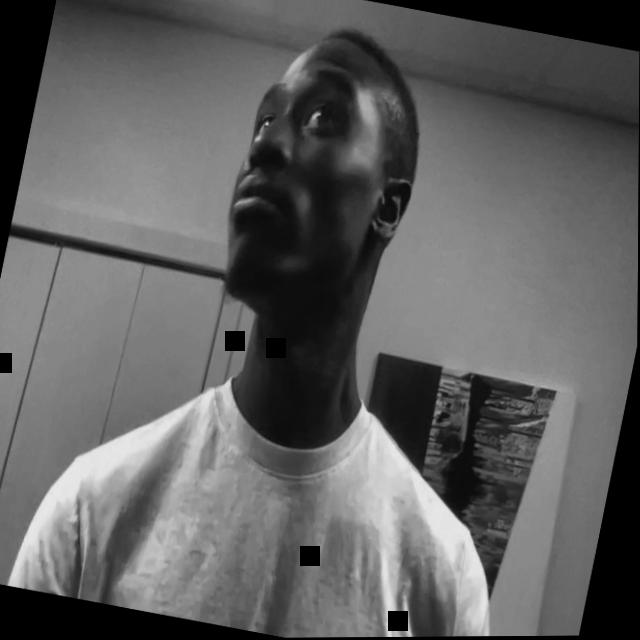NO-Mask: (212, 30, 437, 333)
